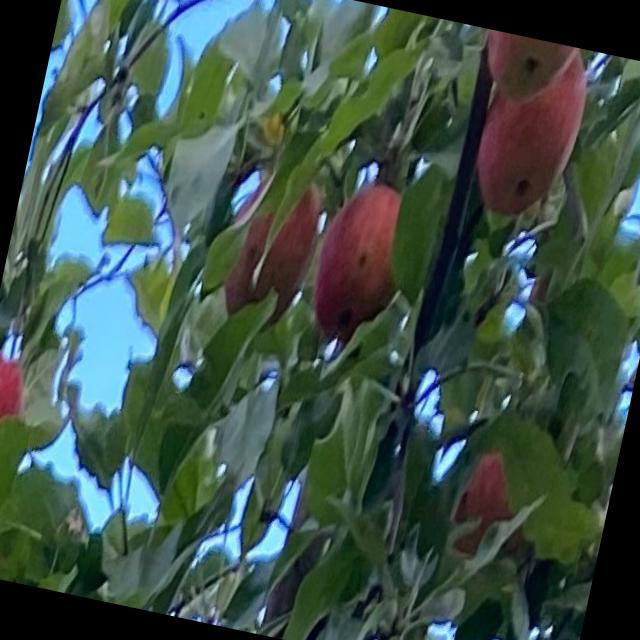Apples: (468, 36, 592, 220), (304, 176, 416, 350), (215, 168, 328, 334), (476, 28, 580, 112), (450, 446, 528, 552), (0, 349, 34, 505)
